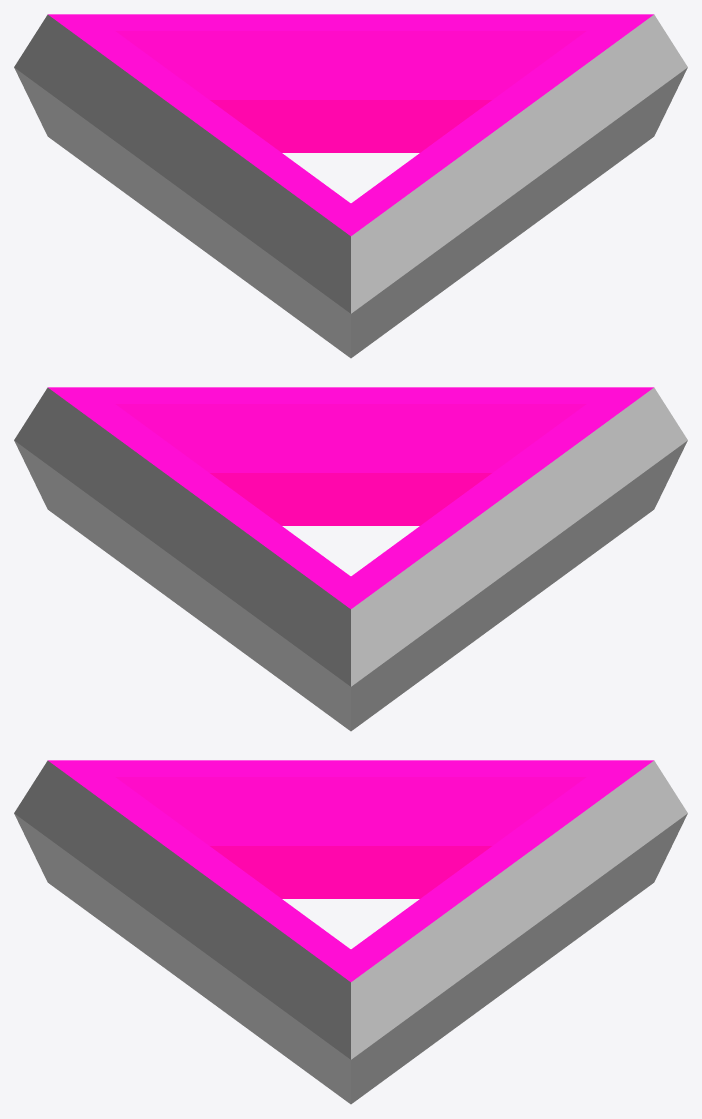
Rendered from enemyTris.fbx.
3 views of the same model, one above another, from view 1: azimuth 30°, elevation 25°; view 2: azimuth 150°, elevation 25°; view 3: azimuth 270°, elevation 25° (orthographic).
Visible parts, largest first — view 1: Torus; view 2: Torus; view 3: Torus.
Part boxes in pixels (x1,y1,x2,y2): Torus: (14,14,687,358); Torus: (14,387,687,731); Torus: (14,760,687,1104).
Bounding box in the file's own units: 187 × 43.3 × 217.
